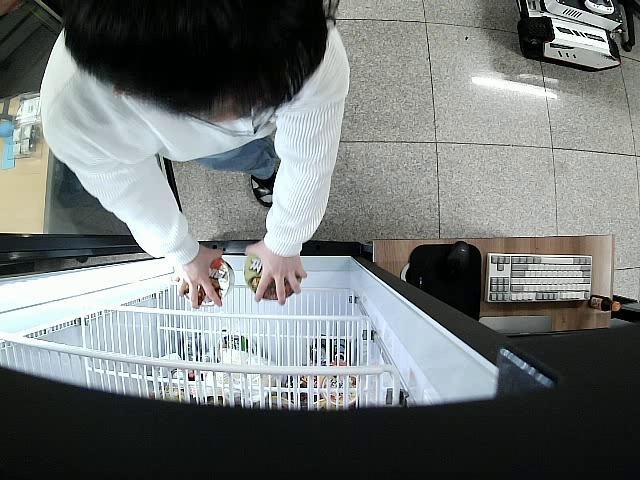03_chapagetti_L: (246, 254, 302, 300), (185, 260, 232, 306)
